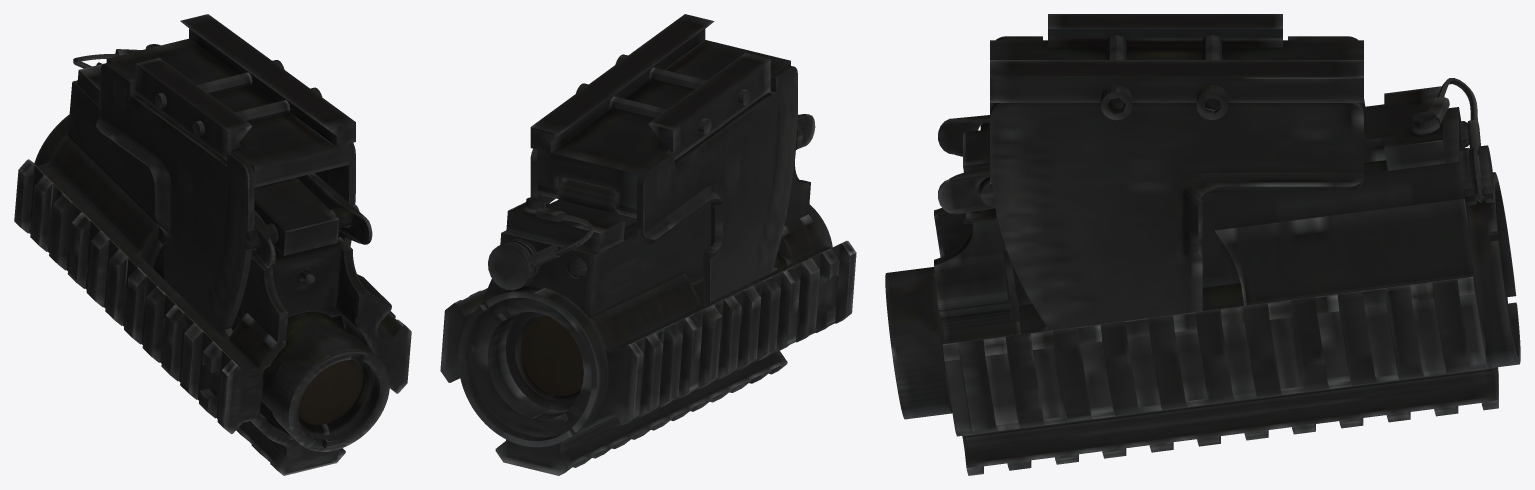
3 renders of one model, left to right at view 1: azimuth 30°, elevation 25°; view 2: azimuth 150°, elevation 25°; view 3: azimuth 270°, elevation 25°, orthographic. The views are drawn at different scales.
Visible parts, largest first — view 1: TW_6284bd5f95250a29bc628a30_range150_PZ_Import; view 2: TW_6284bd5f95250a29bc628a30_range150_PZ_Import; view 3: TW_6284bd5f95250a29bc628a30_range150_PZ_Import.
Boxes of the visible parts, x1=… form: TW_6284bd5f95250a29bc628a30_range150_PZ_Import: x1=14, y1=14, x2=411, y2=475; TW_6284bd5f95250a29bc628a30_range150_PZ_Import: x1=440, y1=14, x2=856, y2=475; TW_6284bd5f95250a29bc628a30_range150_PZ_Import: x1=885, y1=14, x2=1520, y2=475.
Bounding box in the file's own units: 0.0322 × 0.0761 × 0.0549.
1 material, 1 textured.
